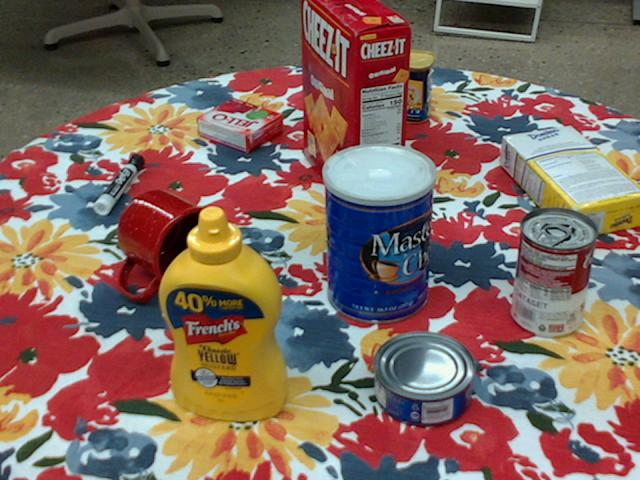cracker_box: (302, 0, 410, 213)
gelatin_box: (195, 98, 283, 153)
large_marker: (92, 153, 143, 214)
master_chef_can: (321, 143, 435, 326)
mug: (115, 190, 231, 300)
mustard_bottle: (156, 206, 287, 420)
potted_meat_can: (357, 45, 437, 122)
sugar_box: (501, 124, 639, 241)
tomato_soup_can: (512, 206, 596, 337)
tuna_fish_can: (369, 332, 472, 427)
